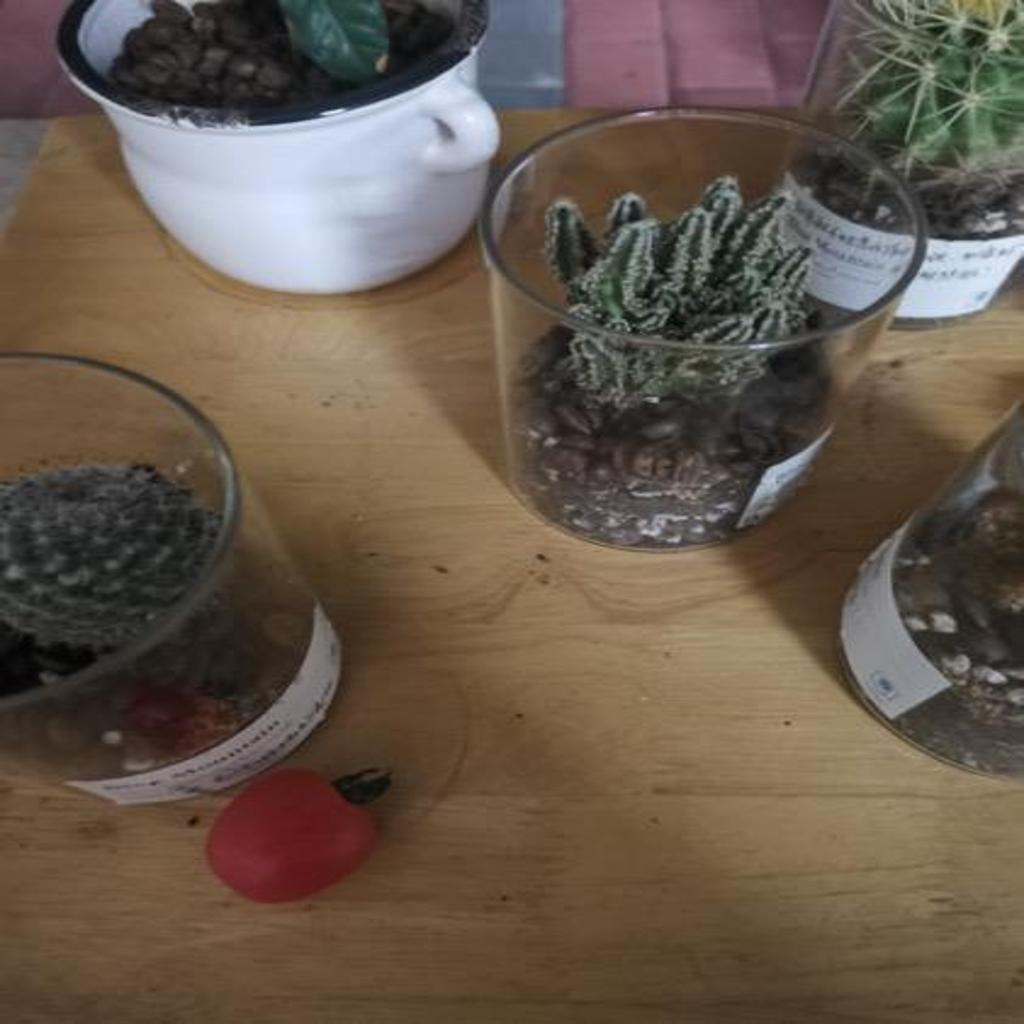tomato: (192, 768, 387, 902)
